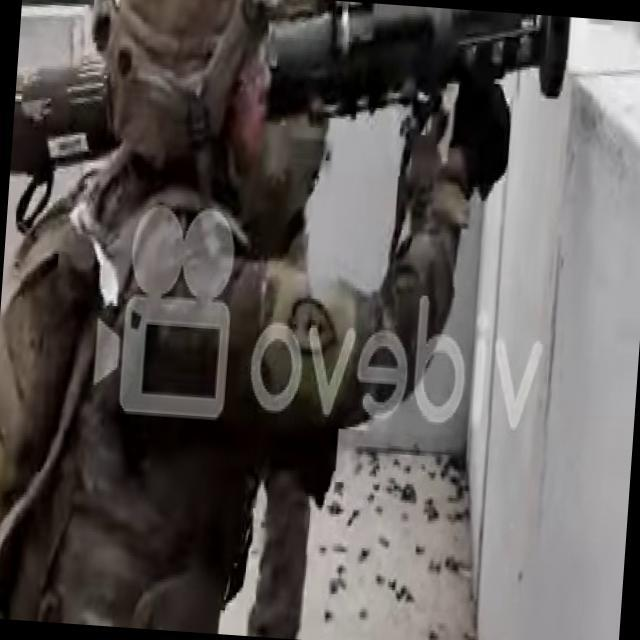rocket: (274, 6, 573, 122)
